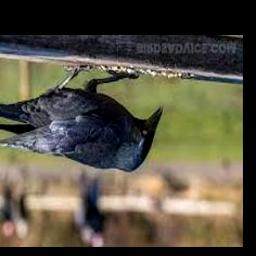Crow: (0, 65, 163, 173)
